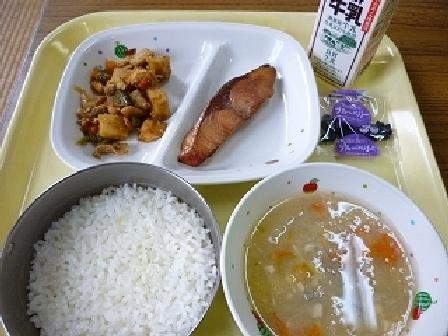Fish: (181, 57, 300, 170)
Milk: (297, 0, 403, 86)
Rice: (1, 170, 225, 328)
Soups: (216, 173, 442, 335)
cooked food meat with vegetables: (60, 48, 170, 149)
